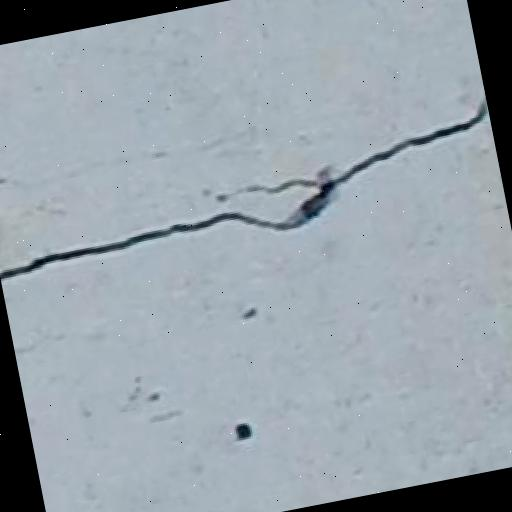spalling: (0, 88, 497, 294)
